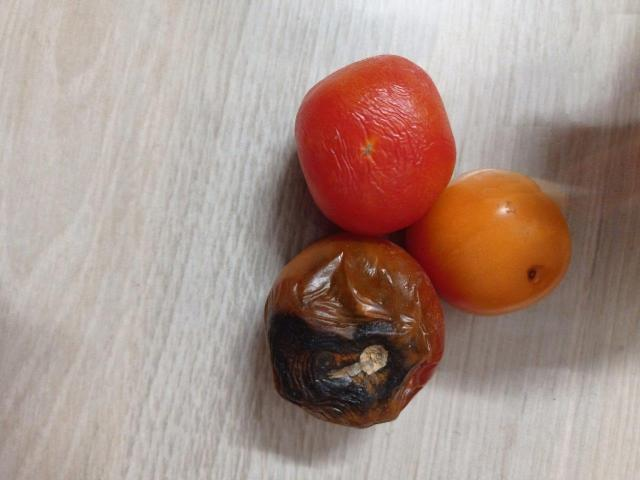defect: (261, 234, 448, 431)
